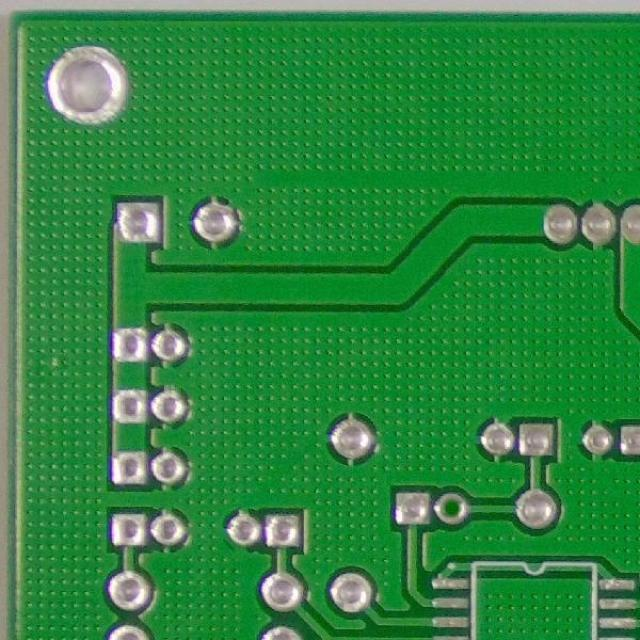Missing_Hole: (429, 494, 467, 524)
